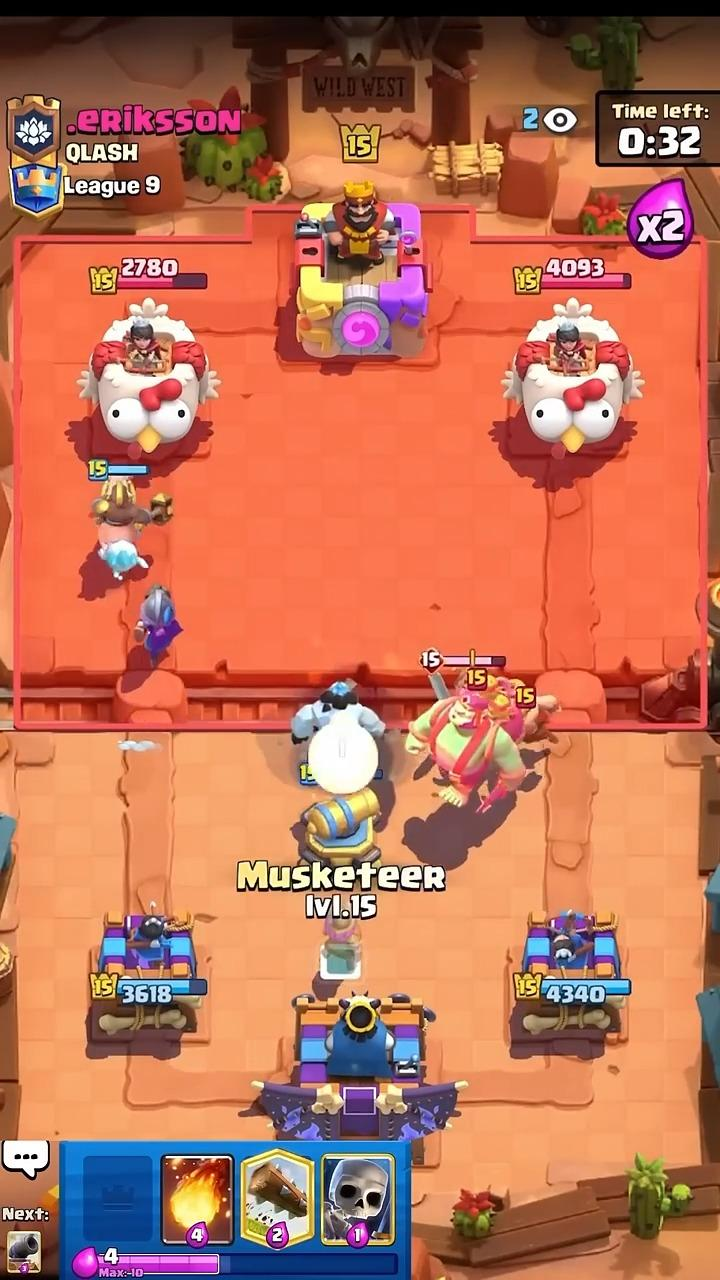cannon: (303, 789, 379, 862)
elite barbarians: (516, 686, 561, 741)
goblin giant: (406, 676, 537, 811)
hog rider: (91, 476, 172, 545)
ice golem: (290, 680, 385, 744)
ice spirit: (98, 538, 148, 581)
musketeer: (135, 587, 182, 668)
